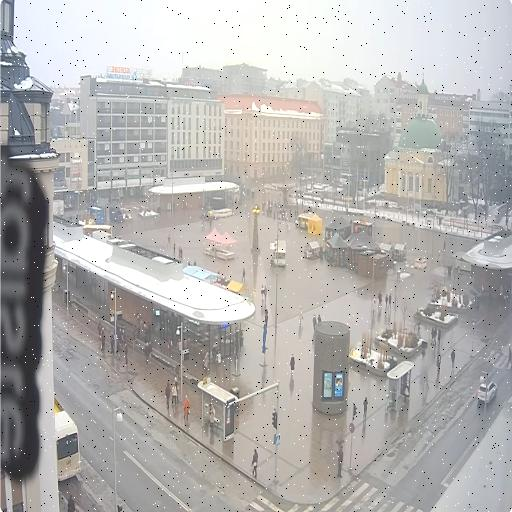Bus: (53, 395, 81, 482)
